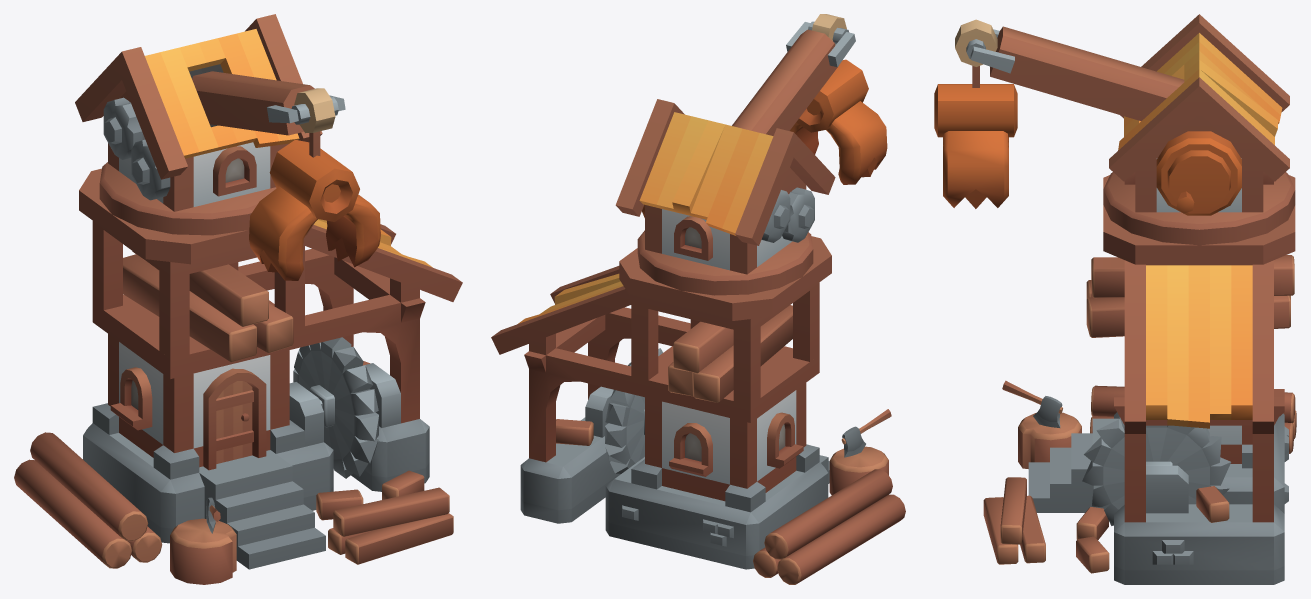
File: building_lumbermill_yellow.glb
3 views of the same model, side by side, from view 1: azimuth 30°, elevation 25°; view 2: azimuth 150°, elevation 25°; view 3: azimuth 270°, elevation 25° (orthographic). The views are drawn at different scales.
Visible parts, largest first — view 1: building_lumbermill_yellow, building_lumbermill_top_yellow, building_lumbermill_saw_yellow; view 2: building_lumbermill_yellow, building_lumbermill_top_yellow, building_lumbermill_saw_yellow; view 3: building_lumbermill_yellow, building_lumbermill_top_yellow, building_lumbermill_saw_yellow.
Boxes of the visible parts, x1,y1,x2,y2 form: building_lumbermill_yellow: [14, 168, 462, 584]; building_lumbermill_top_yellow: [75, 14, 380, 280]; building_lumbermill_saw_yellow: [293, 337, 378, 478]; building_lumbermill_yellow: [491, 236, 905, 584]; building_lumbermill_top_yellow: [615, 14, 887, 295]; building_lumbermill_saw_yellow: [605, 348, 662, 474]; building_lumbermill_yellow: [983, 175, 1296, 584]; building_lumbermill_top_yellow: [934, 14, 1295, 245]; building_lumbermill_saw_yellow: [1082, 417, 1231, 525].
Bounding box in the file's own units: 1.37 × 1.71 × 1.19.
Materials: 1 (1 with a texture image).
